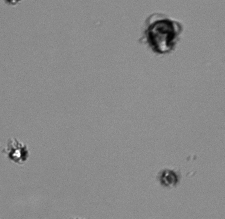Dead Cell: (142, 17, 180, 55), (160, 168, 178, 188)
Living Cell: (7, 143, 30, 165)
